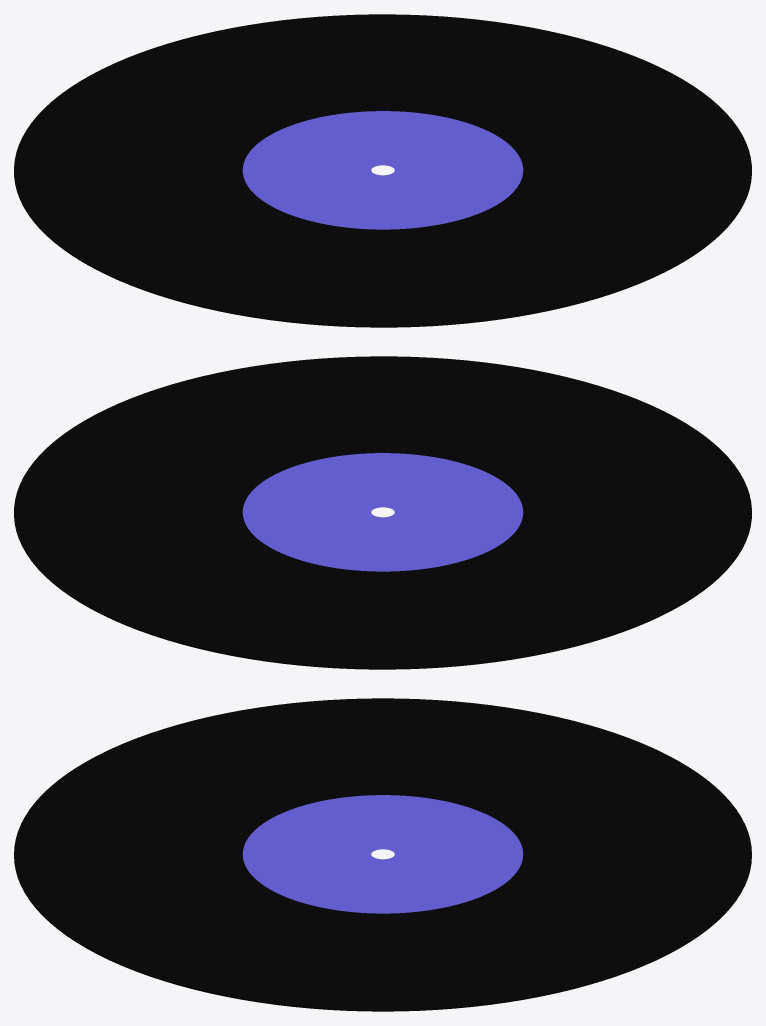
File: vinil.gltf
3 views of the same model, one above another, from view 1: azimuth 30°, elevation 25°; view 2: azimuth 150°, elevation 25°; view 3: azimuth 270°, elevation 25° (orthographic).
Visible parts, largest first — view 1: Cylinder; view 2: Cylinder; view 3: Cylinder.
Part boxes in pixels (x1=…): Cylinder: x1=14, y1=14, x2=751, y2=327; Cylinder: x1=14, y1=356, x2=751, y2=669; Cylinder: x1=14, y1=698, x2=751, y2=1011.
Bounding box in the file's own units: 2 × 0.004 × 2.
